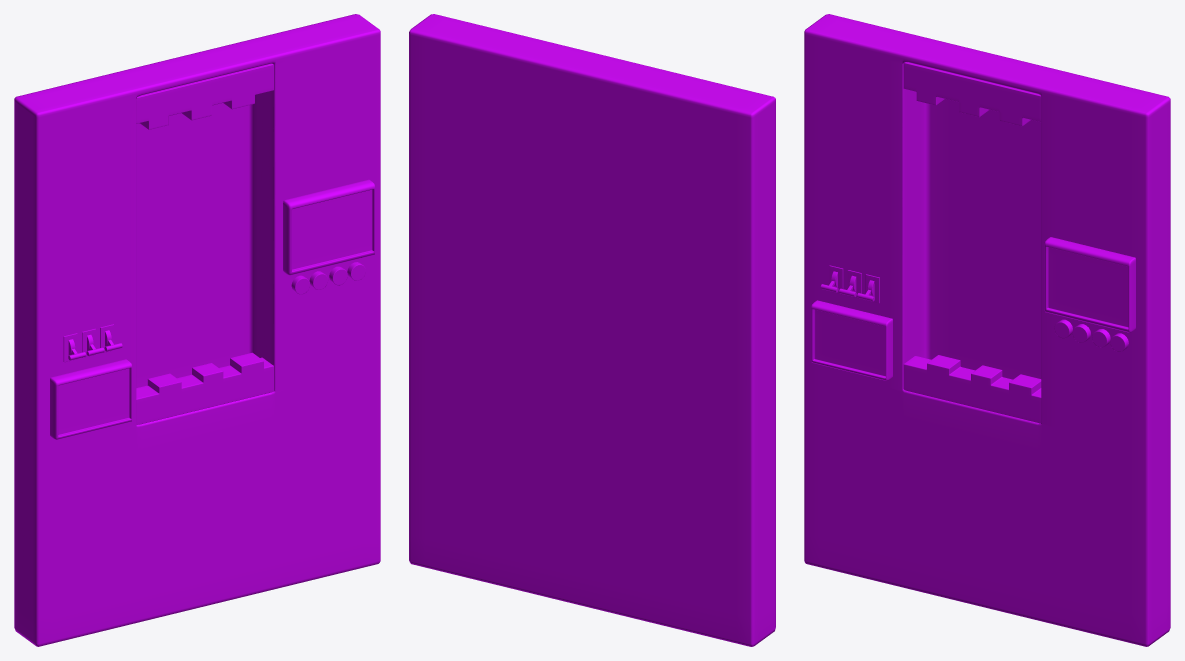
The model's file is mechanic_panel.gltf.
The picture shows the model from 3 angles, left to right: view 1: azimuth 30°, elevation 25°; view 2: azimuth 150°, elevation 25°; view 3: azimuth 330°, elevation 25°; orthographic projection.
Parts seen in each view (by area): view 1: mechanic_panel_5; view 2: mechanic_panel_5; view 3: mechanic_panel_5.
Boxes of the visible parts, bbox=[...] form: mechanic_panel_5: bbox=[14, 14, 380, 646]; mechanic_panel_5: bbox=[409, 14, 775, 646]; mechanic_panel_5: bbox=[804, 14, 1170, 646].
Size of the model in its own units: 2.02 by 2.99 by 0.3261.
